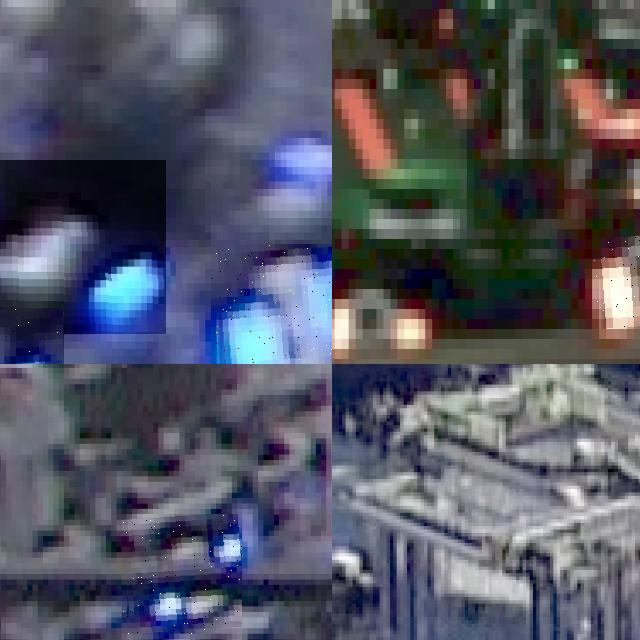B2: (122, 514, 242, 634)
B3: (0, 159, 167, 334), (211, 243, 332, 364)
Rs: (592, 229, 640, 329)
